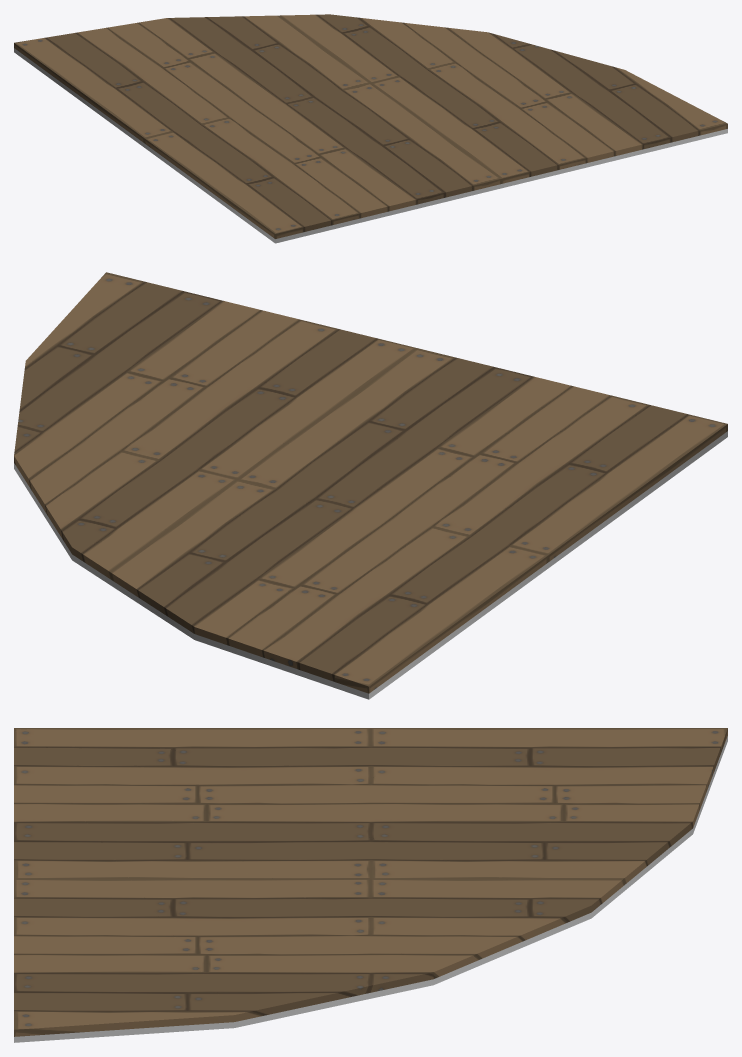
Rendered from SM_Bld_Floor_Curved_Large_01.fbx.
3 renders of one model, top to bottom at view 1: azimuth 30°, elevation 25°; view 2: azimuth 150°, elevation 25°; view 3: azimuth 270°, elevation 25°, orthographic. The views are drawn at different scales.
Parts seen in each view (by area): view 1: SM_Bld_Floor_Curved_Large_01; view 2: SM_Bld_Floor_Curved_Large_01; view 3: SM_Bld_Floor_Curved_Large_01.
Boxes of the visible parts, left/top/right/bottom form: SM_Bld_Floor_Curved_Large_01: left=14, top=14, right=727, bottom=243; SM_Bld_Floor_Curved_Large_01: left=14, top=272, right=727, bottom=699; SM_Bld_Floor_Curved_Large_01: left=14, top=728, right=727, bottom=1042.
Bounding box in the file's own units: 500 × 10.06 × 500.
